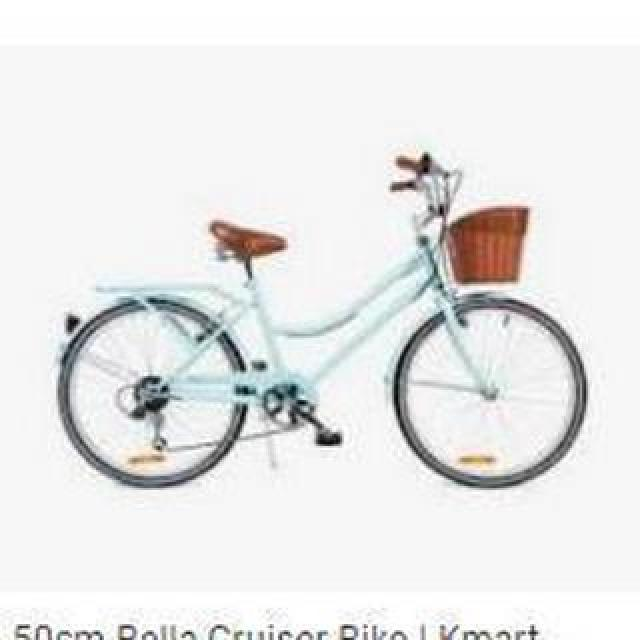Person: (52, 146, 582, 534)
